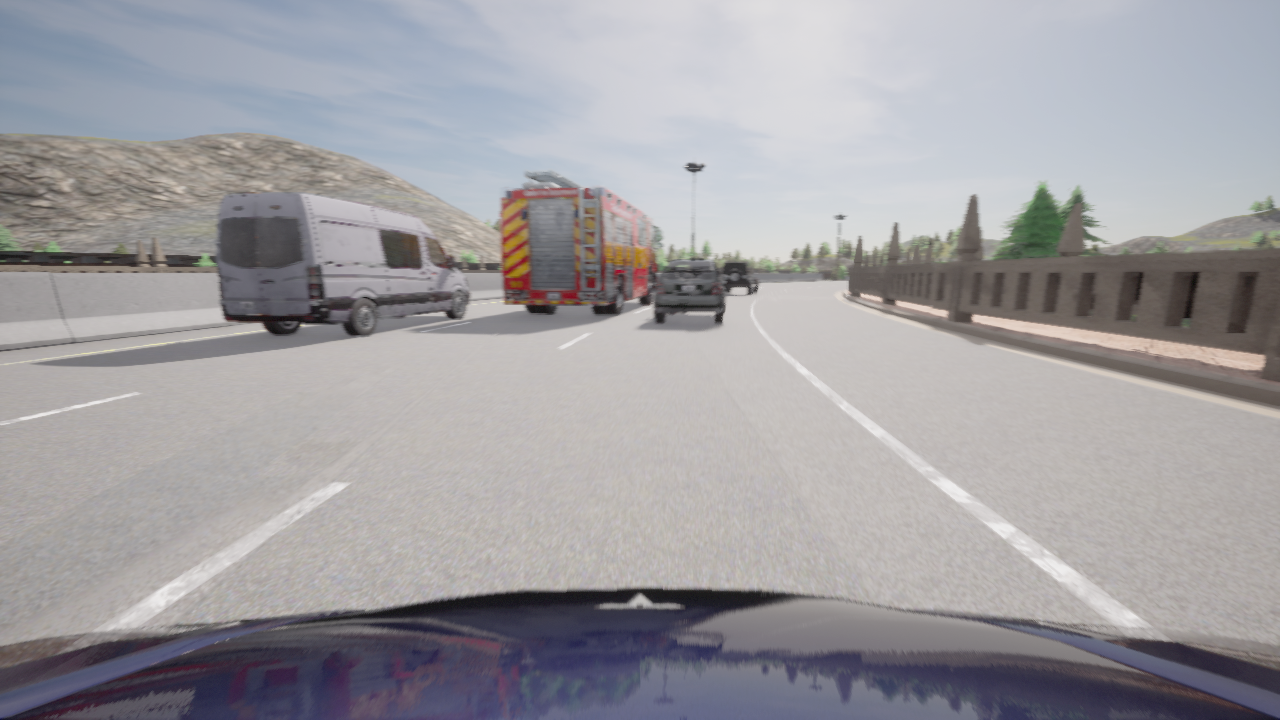cyclist: (0, 588, 1279, 719), (214, 193, 469, 336), (501, 169, 662, 315), (654, 259, 727, 323), (721, 261, 758, 295)
